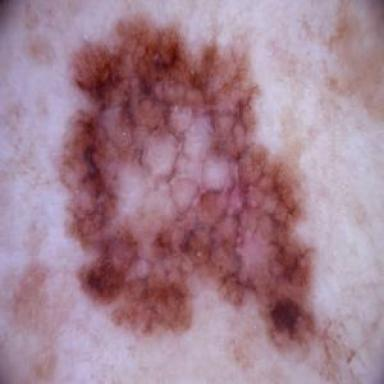Melanoma: (61, 15, 316, 351)
